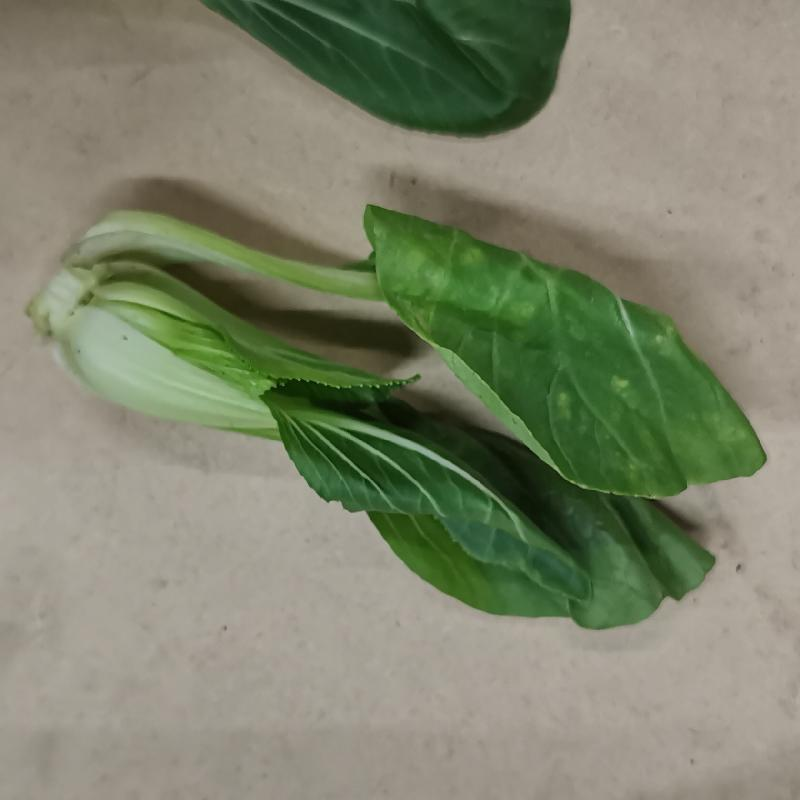green vegatable: (31, 200, 773, 632)
